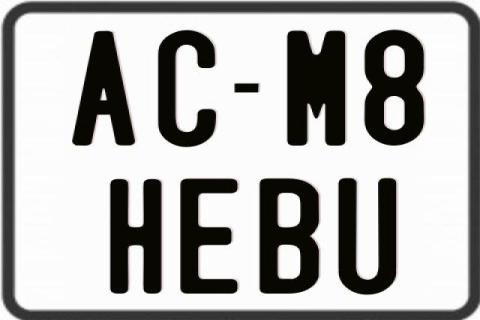0: (361, 27, 424, 145)
A: (71, 29, 137, 145)
B: (259, 176, 324, 295)
C: (156, 28, 220, 146)
E: (180, 177, 242, 297)
H: (108, 177, 158, 292)
M: (285, 28, 344, 143)
U: (337, 178, 401, 298)
